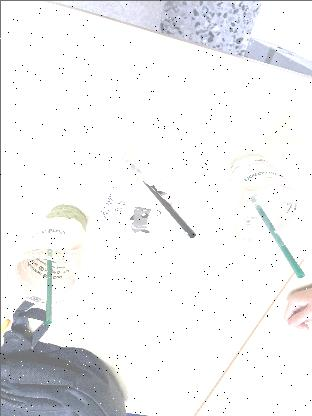Others: (226, 144, 308, 260), (5, 194, 83, 306), (232, 188, 312, 272), (103, 144, 171, 238), (121, 157, 196, 240), (249, 194, 305, 279), (126, 268, 188, 320), (44, 248, 52, 324)
